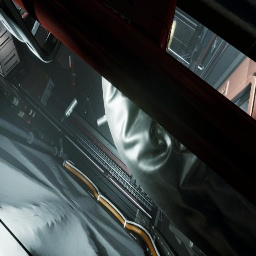0: (61, 98, 78, 122), (5, 93, 22, 108), (11, 106, 28, 119), (97, 115, 108, 127), (17, 8, 22, 14)
FirstAidBox ,: (99, 0, 177, 52)
NitrogenTank ,: (18, 99, 42, 122), (22, 114, 45, 133), (69, 55, 76, 92), (21, 12, 34, 21)
